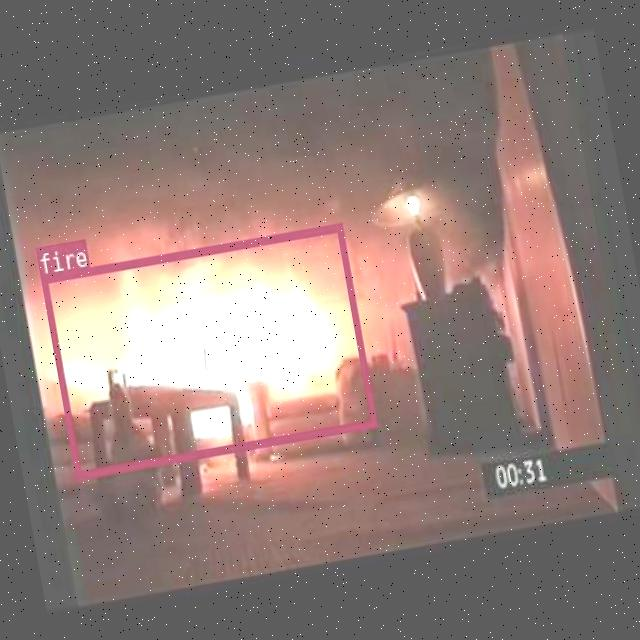fire: (39, 221, 376, 479)
